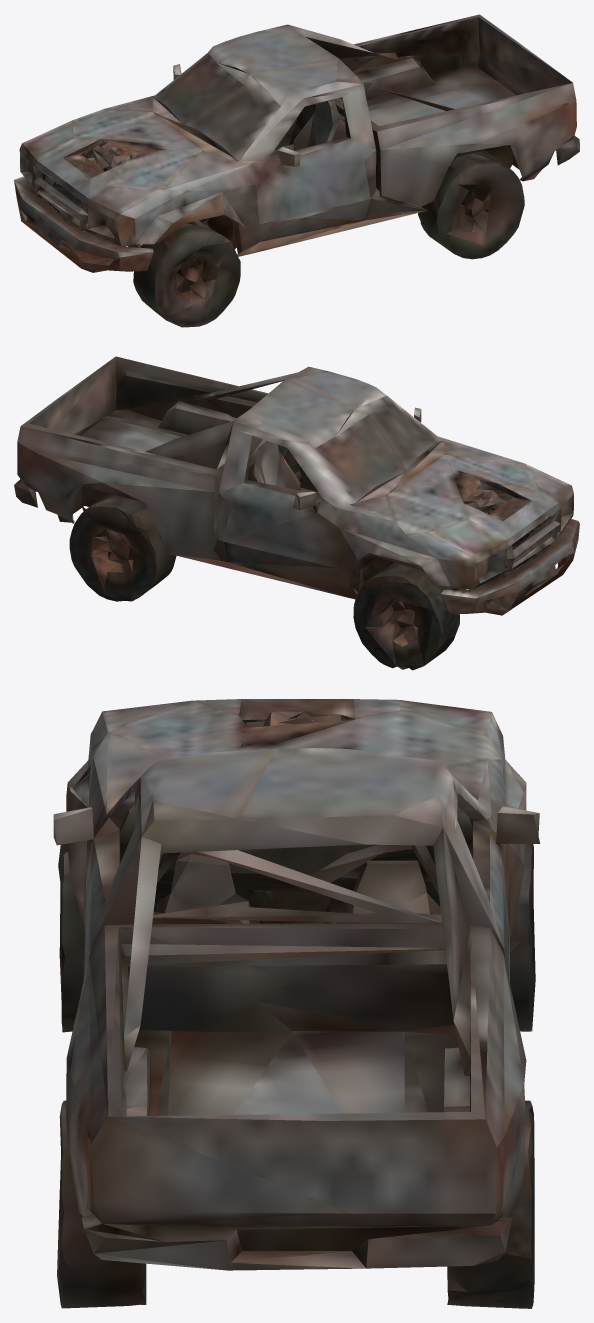
Rendered from ridgeback-carcass.glb.
The picture shows the model from 3 angles, top to bottom: view 1: azimuth 30°, elevation 25°; view 2: azimuth 150°, elevation 25°; view 3: azimuth 270°, elevation 25°; orthographic projection. The views are drawn at different scales.
Size of the model in its own units: 1.9 by 0.7135 by 0.8199.
1 material, 1 textured.
